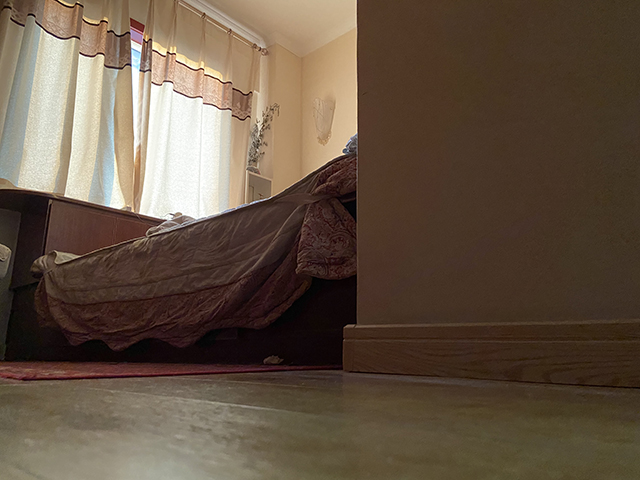bed: (1, 150, 357, 364)
carpet: (1, 358, 345, 381)
curtain: (2, 1, 134, 210), (143, 1, 260, 222)
